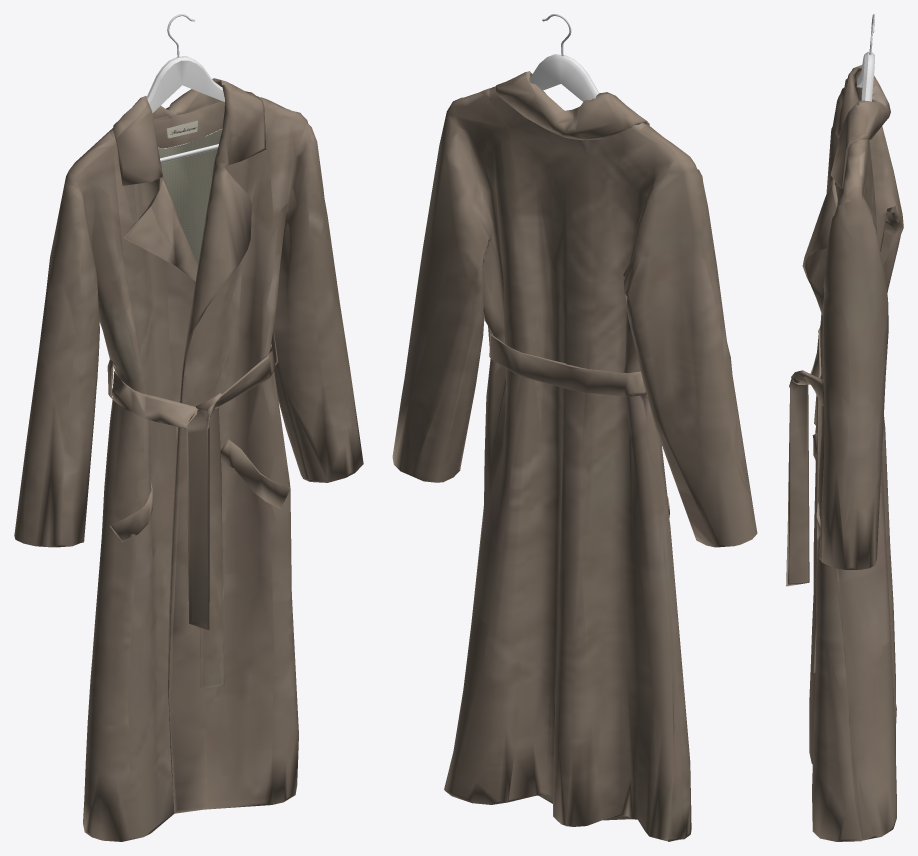
The model's file is coat_bej.glb.
3 renders of one model, left to right at view 1: azimuth 30°, elevation 25°; view 2: azimuth 150°, elevation 25°; view 3: azimuth 270°, elevation 25°, orthographic. The views are drawn at different scales.
Visible parts, largest first — view 1: BP_coat_bej; view 2: BP_coat_bej; view 3: BP_coat_bej.
Part boxes in pixels (x1,y1,x2,y2): BP_coat_bej: (14, 14, 363, 841); BP_coat_bej: (392, 14, 757, 841); BP_coat_bej: (786, 14, 903, 841).
Bounding box in the file's own units: 0.6198 × 1.35 × 0.184.
5 materials, 3 textured.
